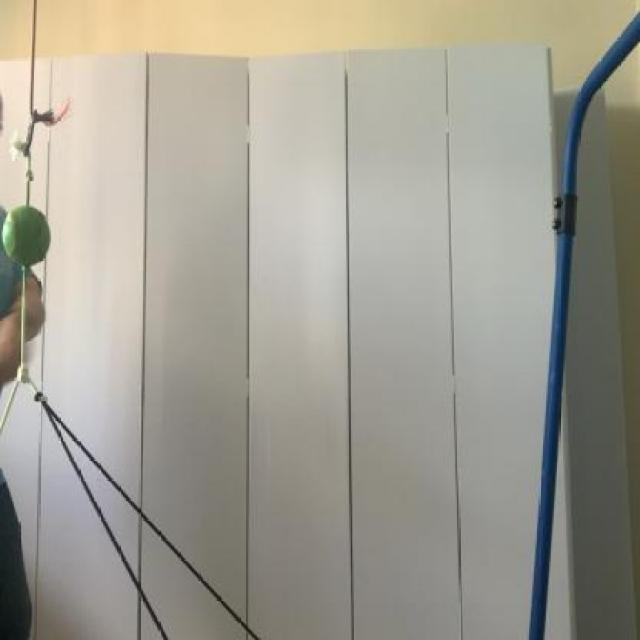baseball: (0, 197, 58, 266)
